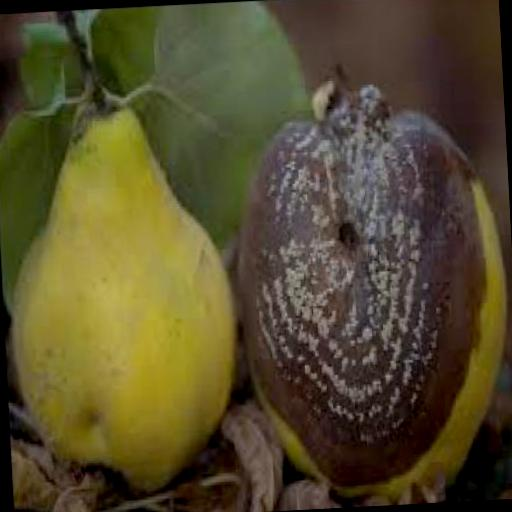biodegradable: (222, 51, 512, 510), (0, 85, 243, 496)
